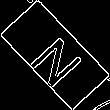N_NE: (22, 23, 88, 87)
